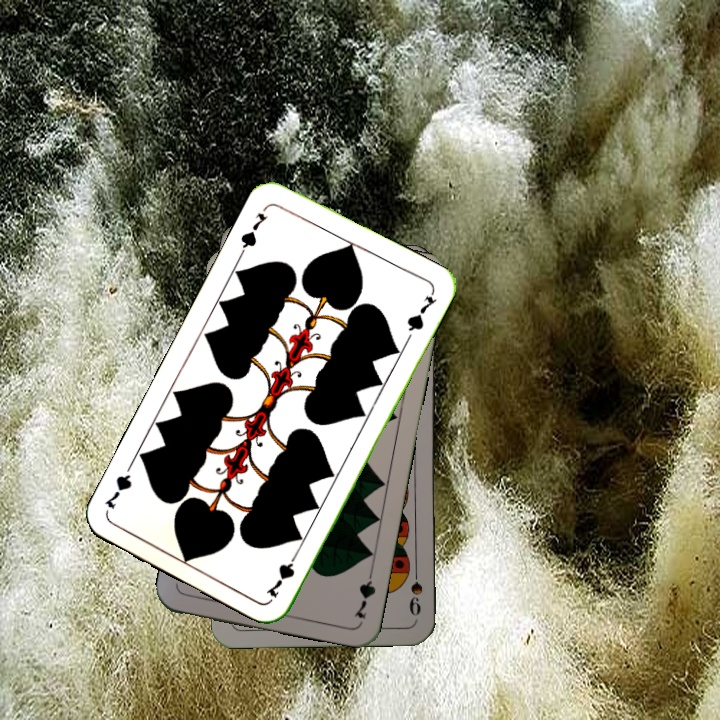G7: (263, 546, 302, 601), (236, 208, 270, 257), (350, 563, 378, 622)
S9: (405, 560, 425, 618)
